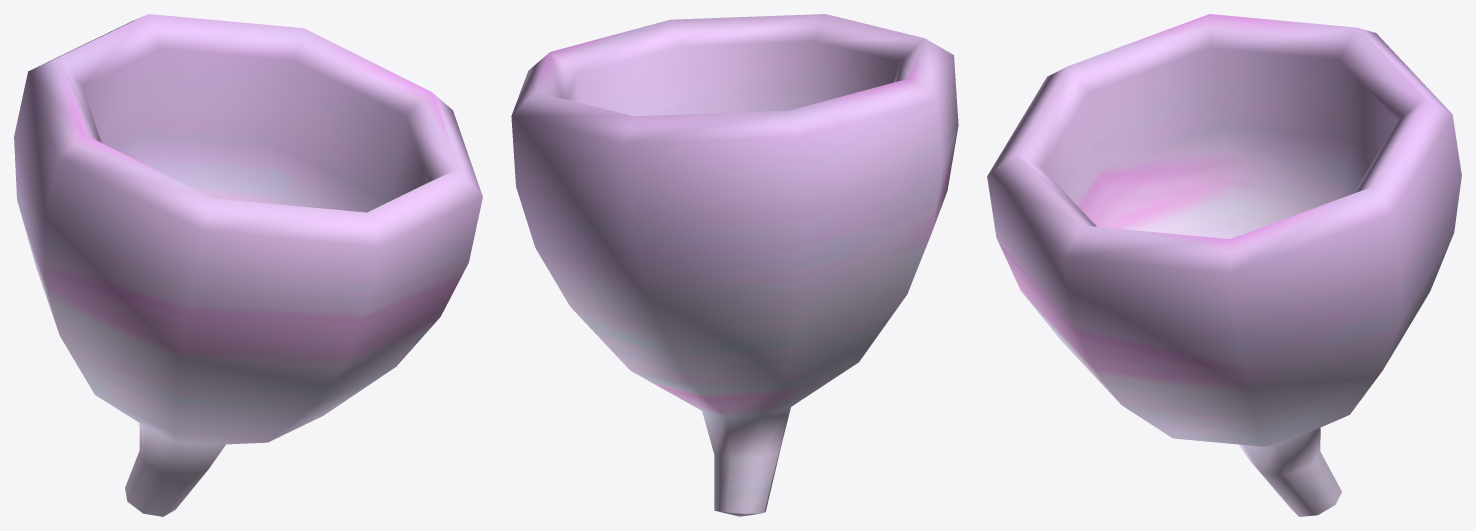
Rendered from pequeno_coral11.fbx.
The picture shows the model from 3 angles, left to right: view 1: azimuth 30°, elevation 25°; view 2: azimuth 150°, elevation 25°; view 3: azimuth 270°, elevation 25°; orthographic projection. The views are drawn at different scales.
Parts seen in each view (by area): view 1: Coral cuenco; view 2: Coral cuenco; view 3: Coral cuenco.
Boxes of the visible parts, x1,y1,x2,y2 form: Coral cuenco: (14,14,482,516); Coral cuenco: (511,14,958,516); Coral cuenco: (987,14,1461,516).
Size of the model in its own units: 334 by 347 by 334.
Materials: 1 (1 with a texture image).
